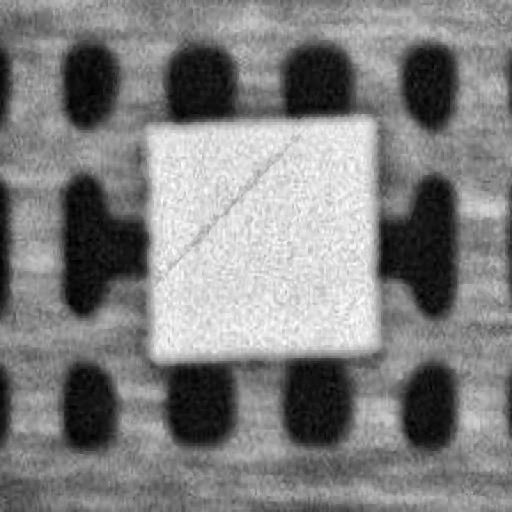DIE_CRACK: (231, 89, 443, 186)
